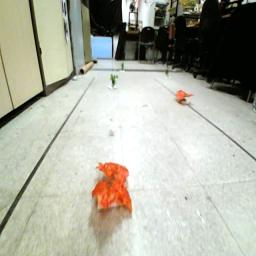herb: (110, 74, 120, 88)
wild: (93, 161, 135, 214), (177, 90, 196, 105)
